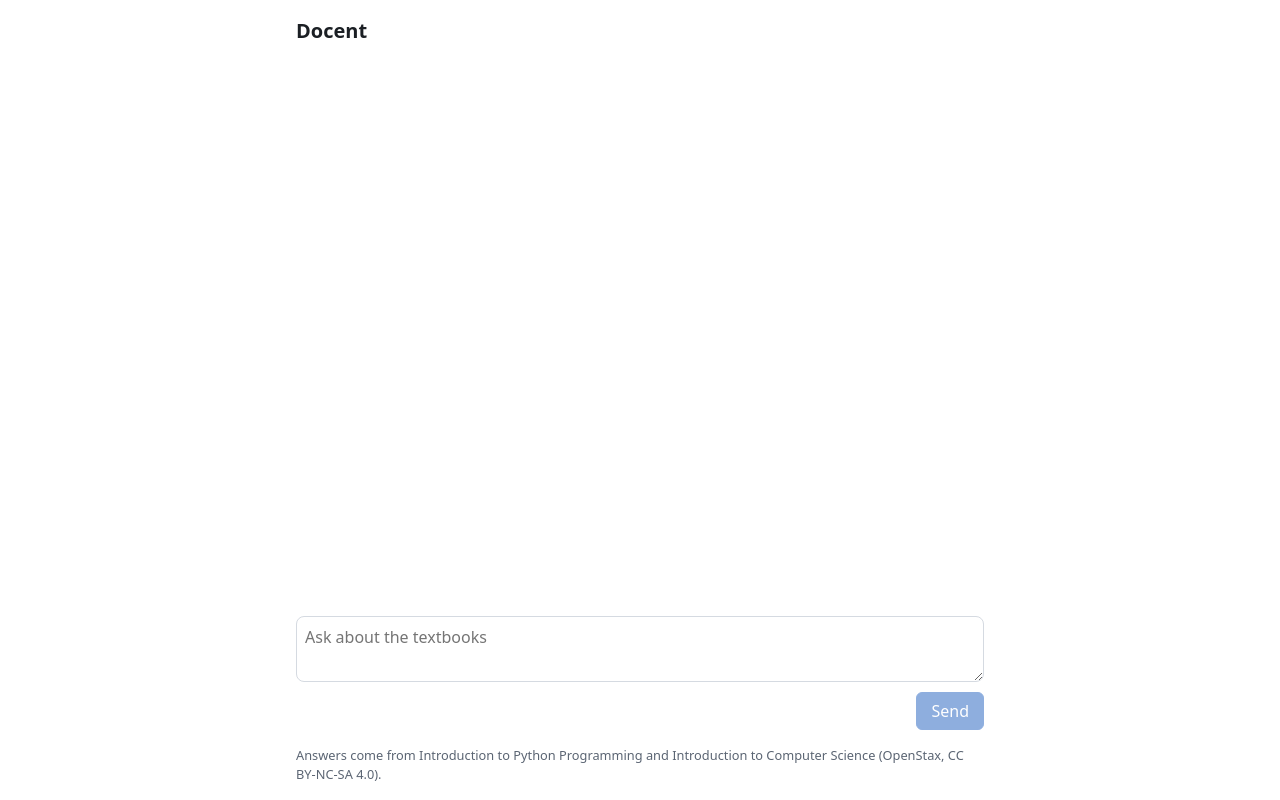
it: answered › renders passage text as text, not HTML
Step 1. Type "How does precedence work?" into the text box named "Question" → (640, 649), box [296,616,984,682]
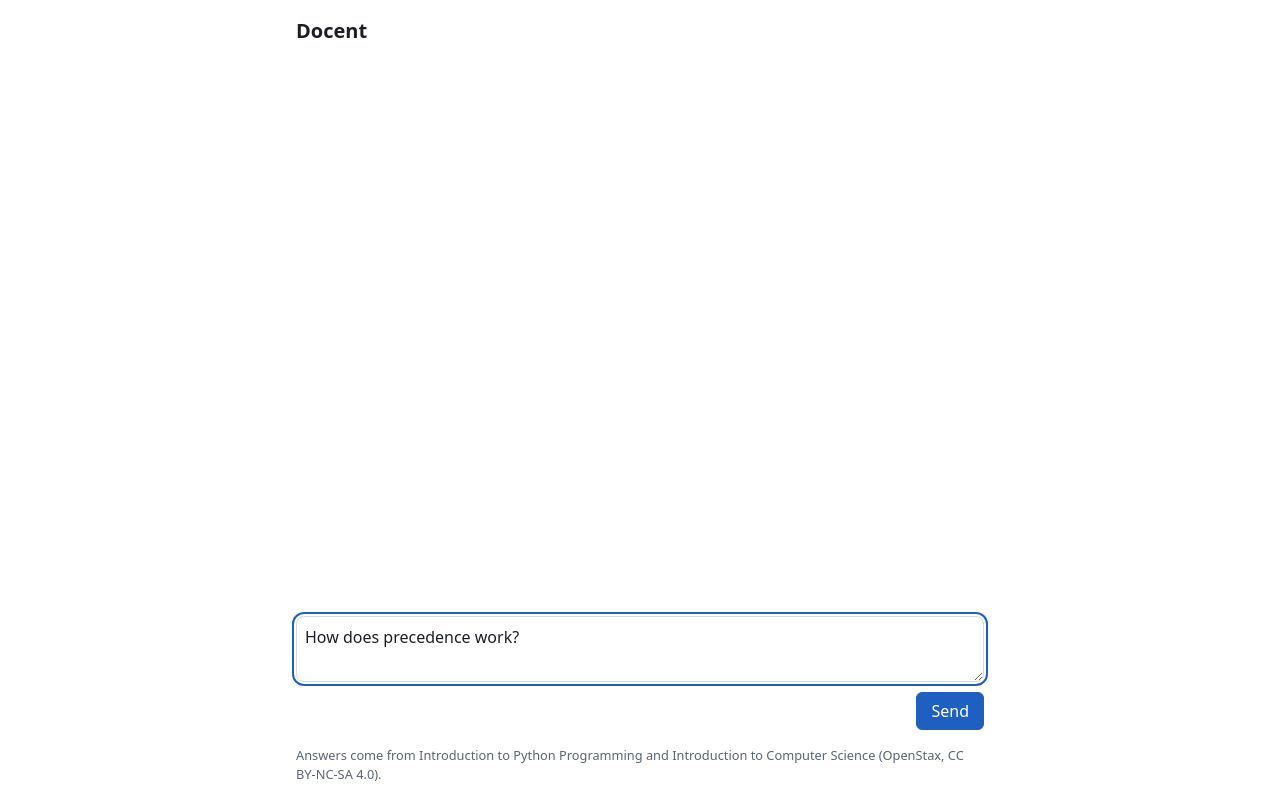
Step 2. Press Enter
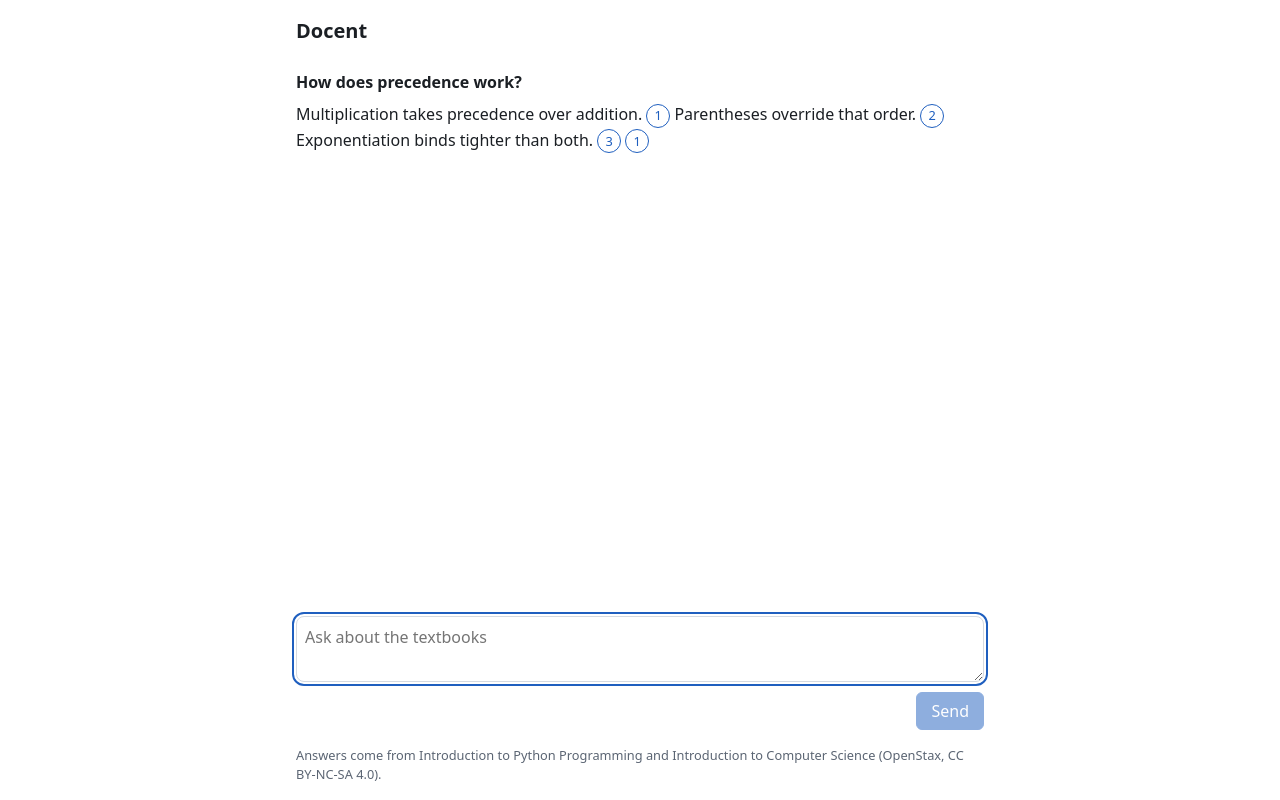
Step 3. Click the button named "Source 2:" → click(932, 116), box [920,104,944,128]
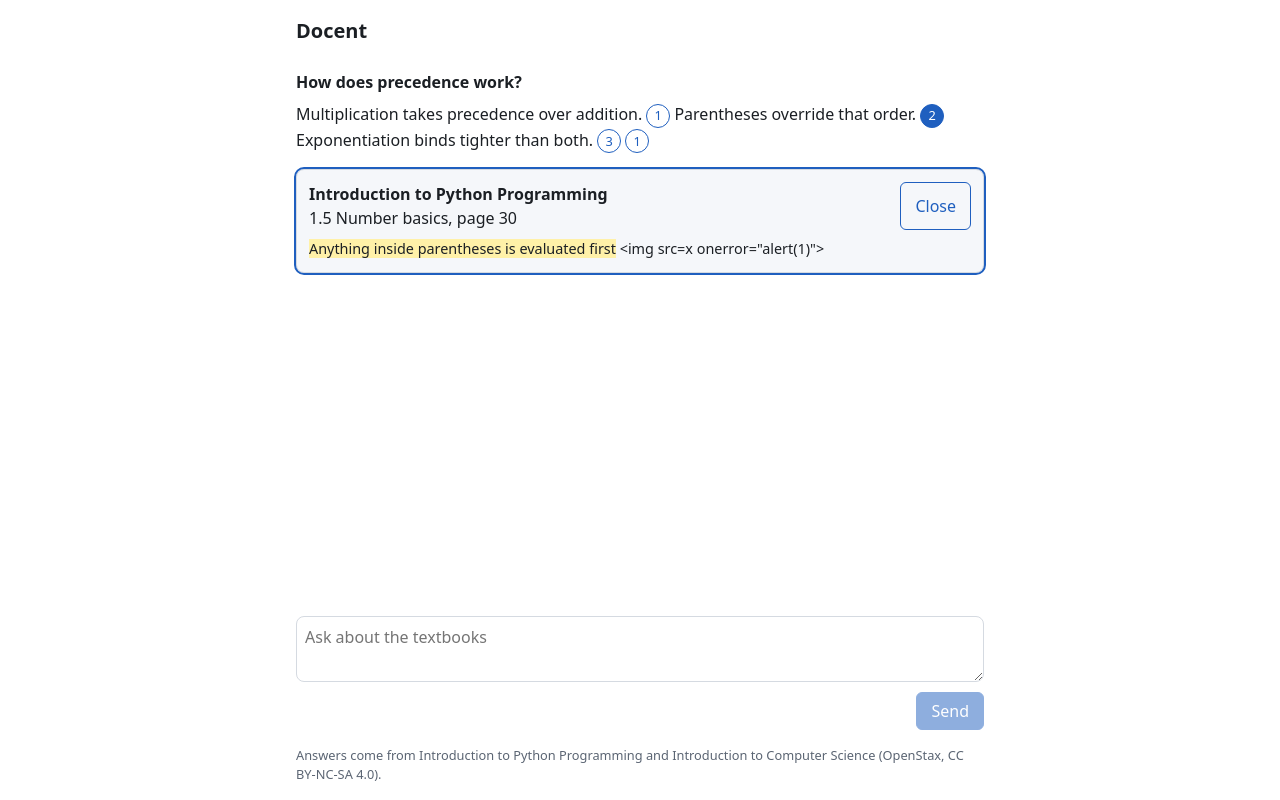
Check: the dialog shows "<img src=x onerror=\"alert(1)\">", box [616,239,824,258]
